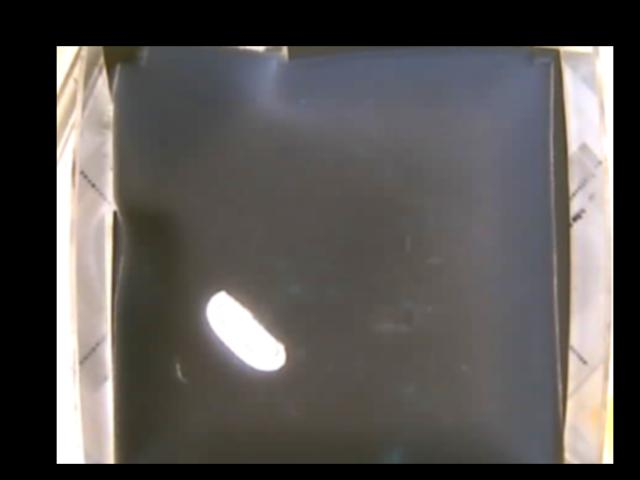Pebble: (204, 288, 287, 368)
